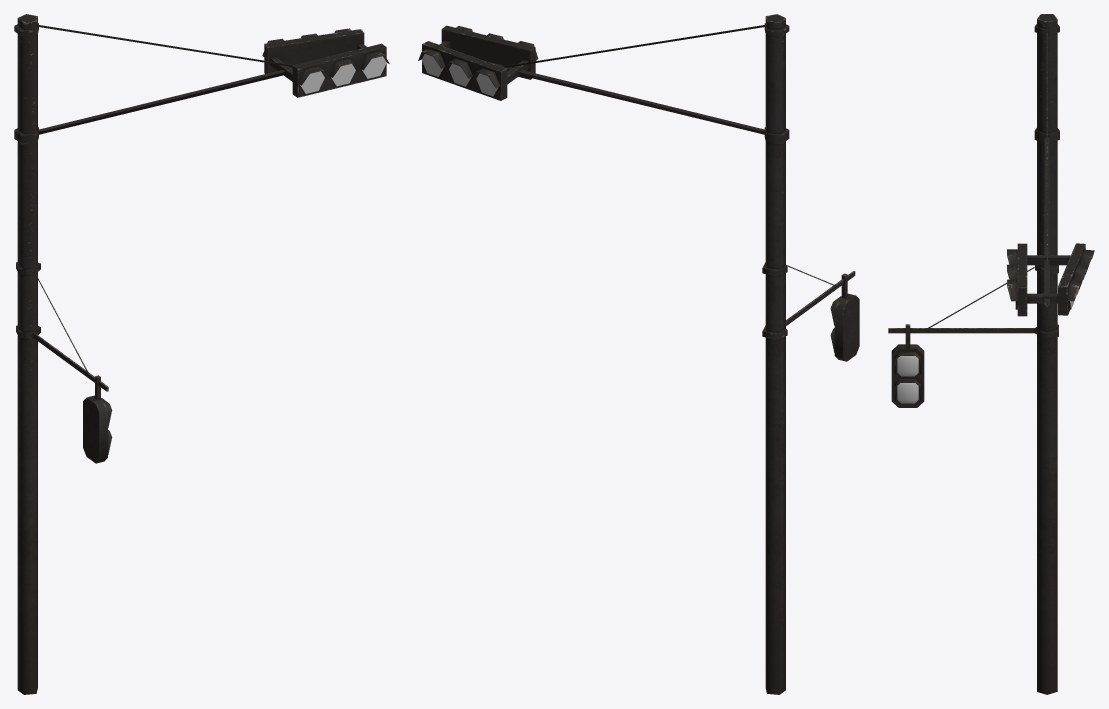
The model's file is jctlowTrafficLightA.fbx.
The picture shows the model from 3 angles, left to right: view 1: azimuth 30°, elevation 25°; view 2: azimuth 150°, elevation 25°; view 3: azimuth 270°, elevation 25°; orthographic projection.
Parts seen in each view (by area): view 1: jctlowTrafficLightA; view 2: jctlowTrafficLightA; view 3: jctlowTrafficLightA.
Boxes of the visible parts, x1,y1,x2,y2 form: jctlowTrafficLightA: (14,14,389,694); jctlowTrafficLightA: (418,14,859,694); jctlowTrafficLightA: (888,14,1094,694).
Size of the model in its own units: 424 by 752 by 209.
